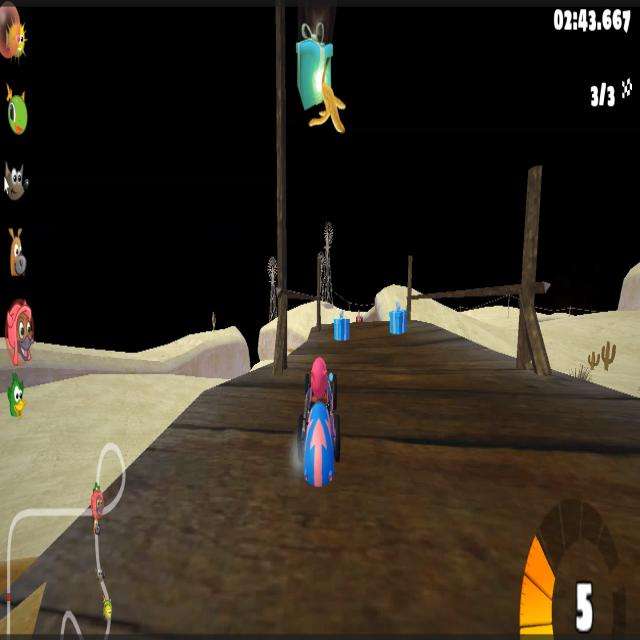bonus: (386, 302, 411, 342), (332, 310, 353, 351)
player_kart: (290, 343, 342, 489)
track: (355, 341, 536, 538), (216, 387, 294, 561)
